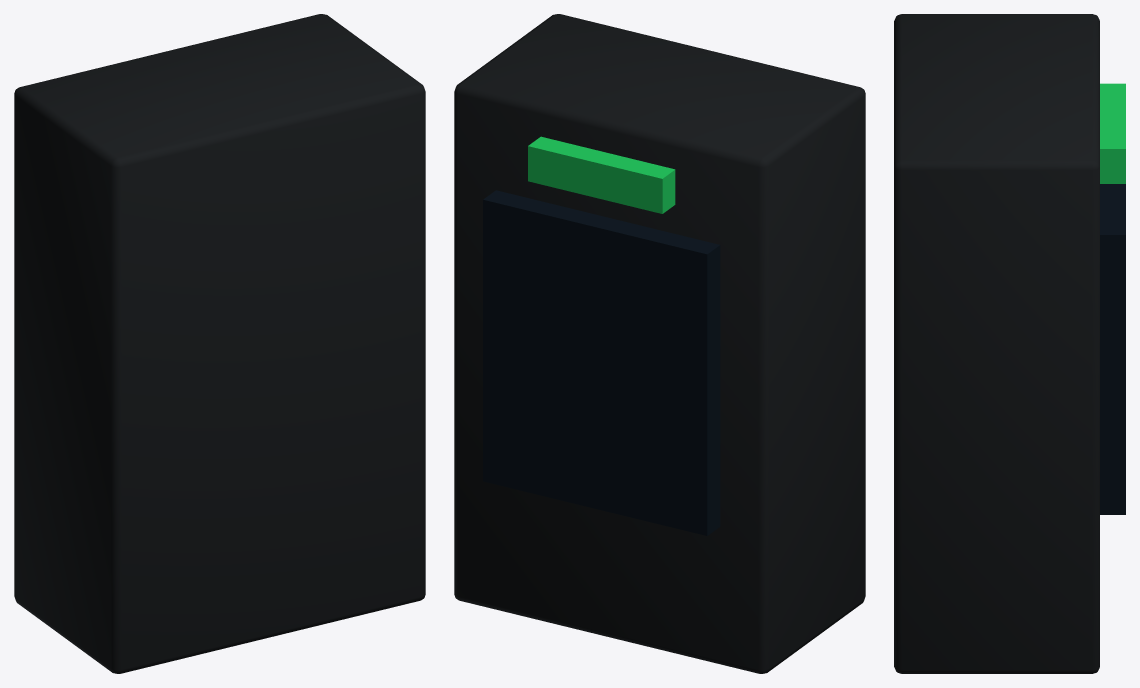
Rendered from hm_bank_badge_scanner_v2.obj.
3 renders of one model, left to right at view 1: azimuth 30°, elevation 25°; view 2: azimuth 150°, elevation 25°; view 3: azimuth 270°, elevation 25°, orthographic.
Parts seen in each view (by area): view 1: BS_Body; view 2: BS_Body, BS_Face, BS_LED; view 3: BS_Body, BS_Face, BS_LED.
Part boxes in pixels (x1,y1,x2,y2): BS_Body: (14, 14, 425, 673); BS_Body: (454, 14, 865, 673); BS_Face: (483, 190, 720, 535); BS_LED: (528, 136, 675, 213); BS_Body: (894, 14, 1099, 673); BS_Face: (1100, 184, 1125, 514); BS_LED: (1100, 83, 1125, 183).
Bounding box in the file's own units: 0.14 × 0.22 × 0.09.
